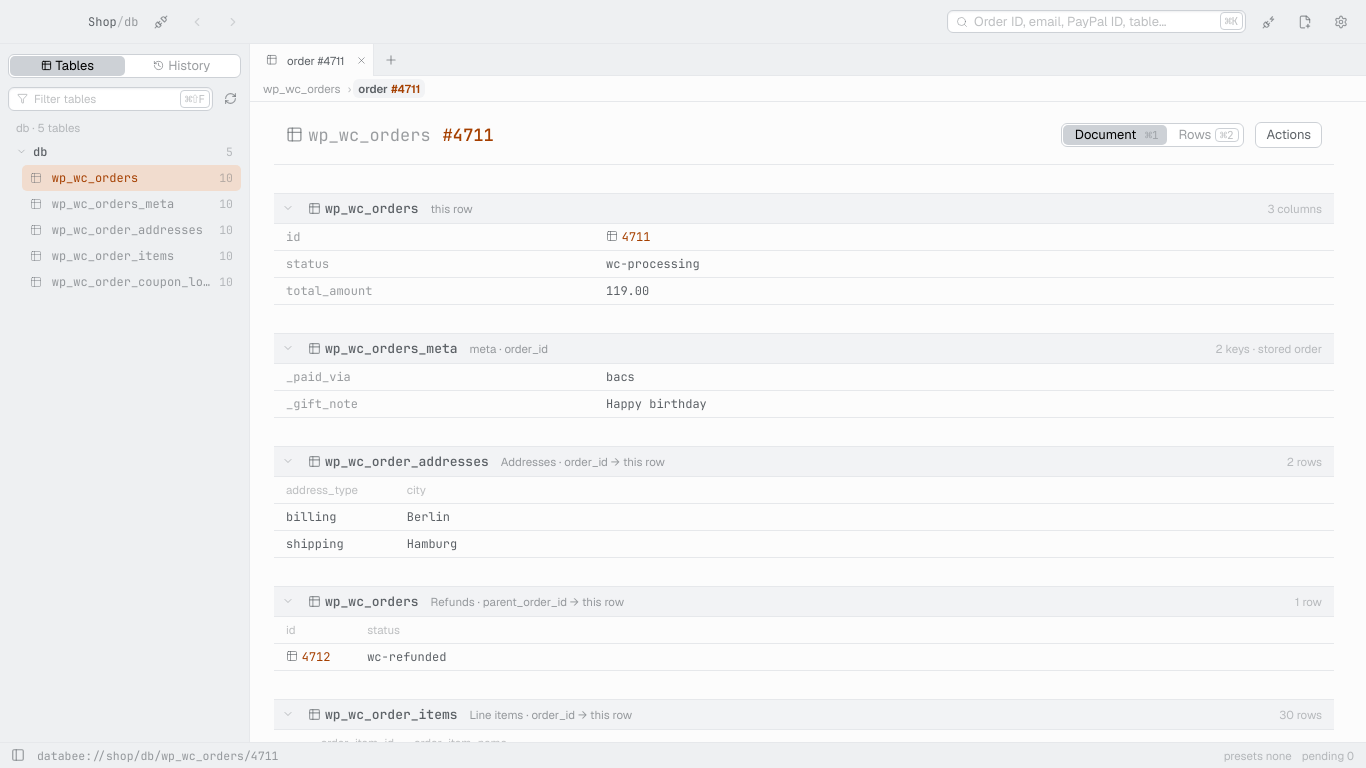
Test: collapsible object sections › Document view › toggles when the band's count text is clicked
Expected: the element named "Databases" is shown, left=16, top=144, right=241, bottom=290
Expected: the element named "Object header" is shown, left=274, top=102, right=1334, bottom=165
Click the text "2 keys · stored order" at (1269, 348), box left=1216, top=341, right=1322, bottom=356
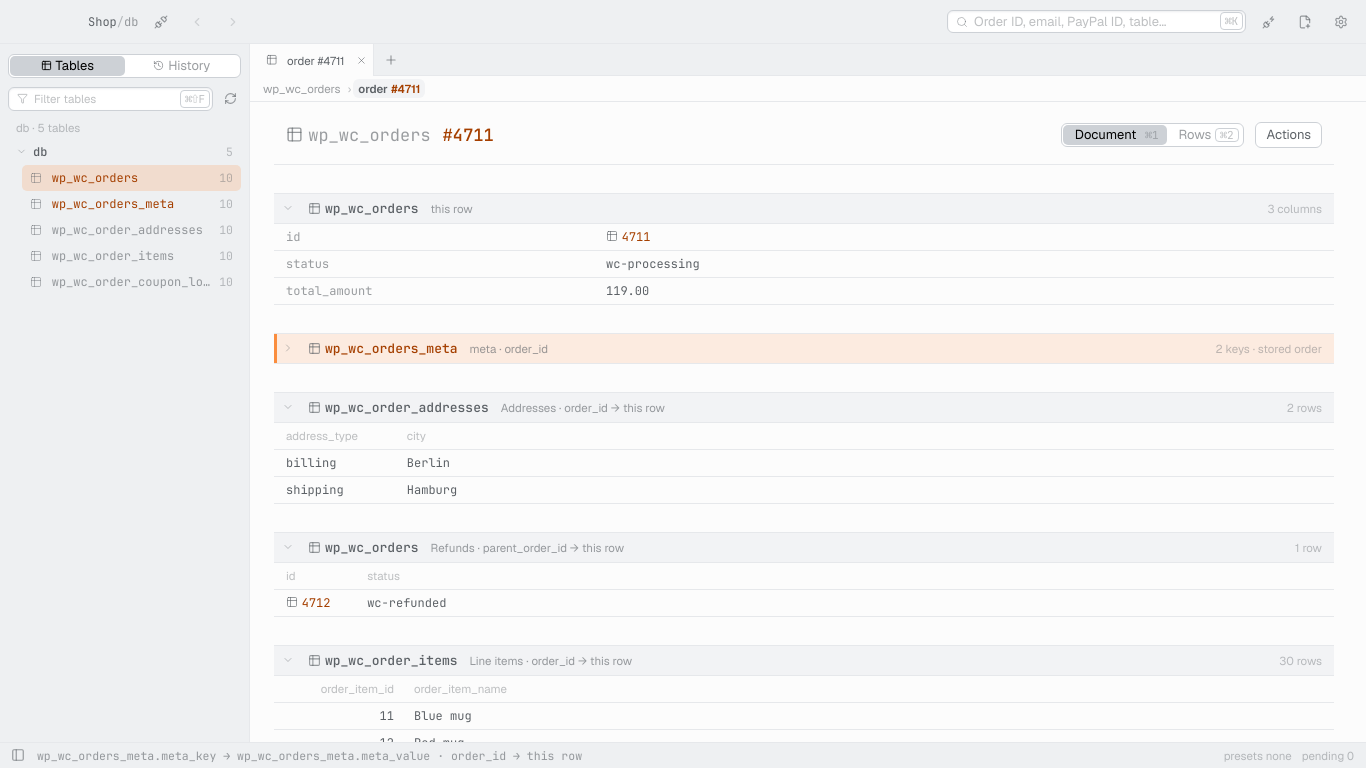
Expected: the text "bacs" is gone
Click the text "2 keys · stored order" at (1269, 348), box left=1216, top=341, right=1322, bottom=356
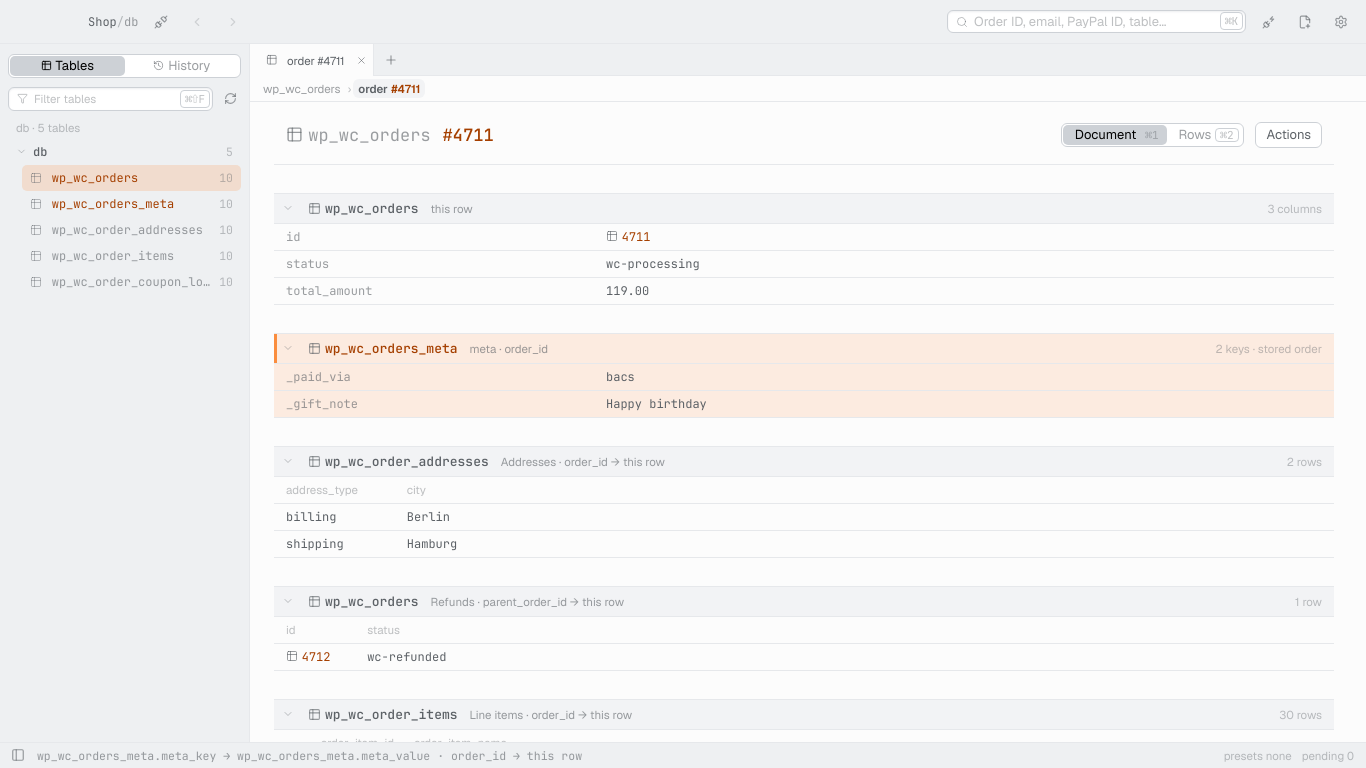
Expected: the text "bacs" is shown, left=606, top=369, right=635, bottom=385
